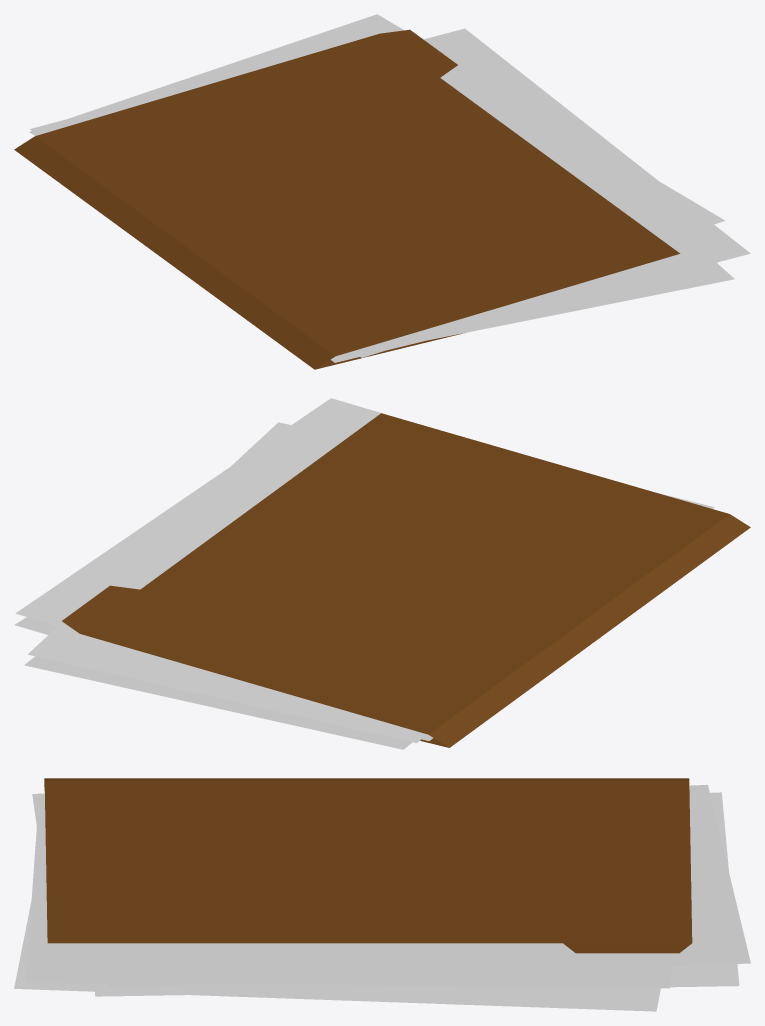
Rendered from decor_folder.fbx.
3 views of the same model, one above another, from view 1: azimuth 30°, elevation 25°; view 2: azimuth 150°, elevation 25°; view 3: azimuth 270°, elevation 25° (orthographic). The views are drawn at different scales.
Visible parts, largest first — view 1: decor_folder; view 2: decor_folder; view 3: decor_folder.
Part boxes in pixels (left/top/right/bottom): decor_folder: left=14, top=14, right=750, bottom=369; decor_folder: left=14, top=398, right=750, bottom=749; decor_folder: left=14, top=778, right=750, bottom=1011.
Size of the model in its own units: 27.59 by 1.63 by 36.53.
